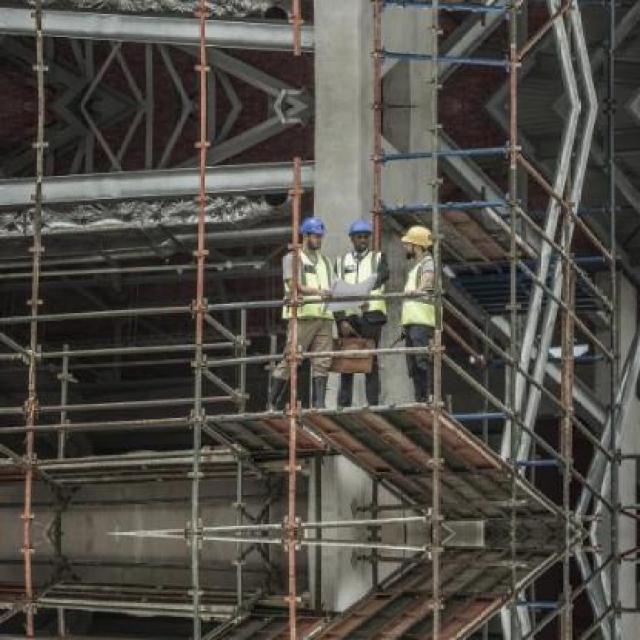Reflective-Jacket: (272, 245, 340, 333), (396, 256, 452, 338), (337, 245, 391, 318)
Safety-Helmet: (397, 220, 441, 254), (295, 213, 331, 242), (343, 216, 377, 240)
